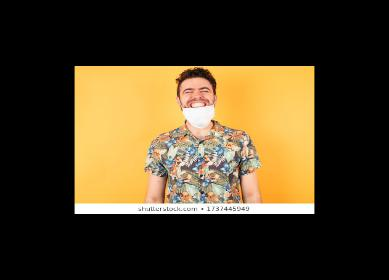mask_weared_incorrect: (181, 82, 215, 122)
